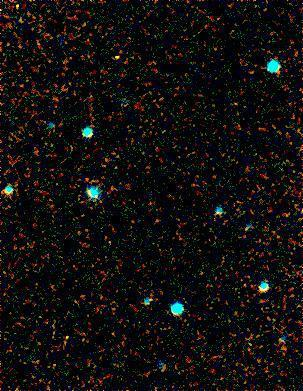star: (45, 320, 75, 350)
